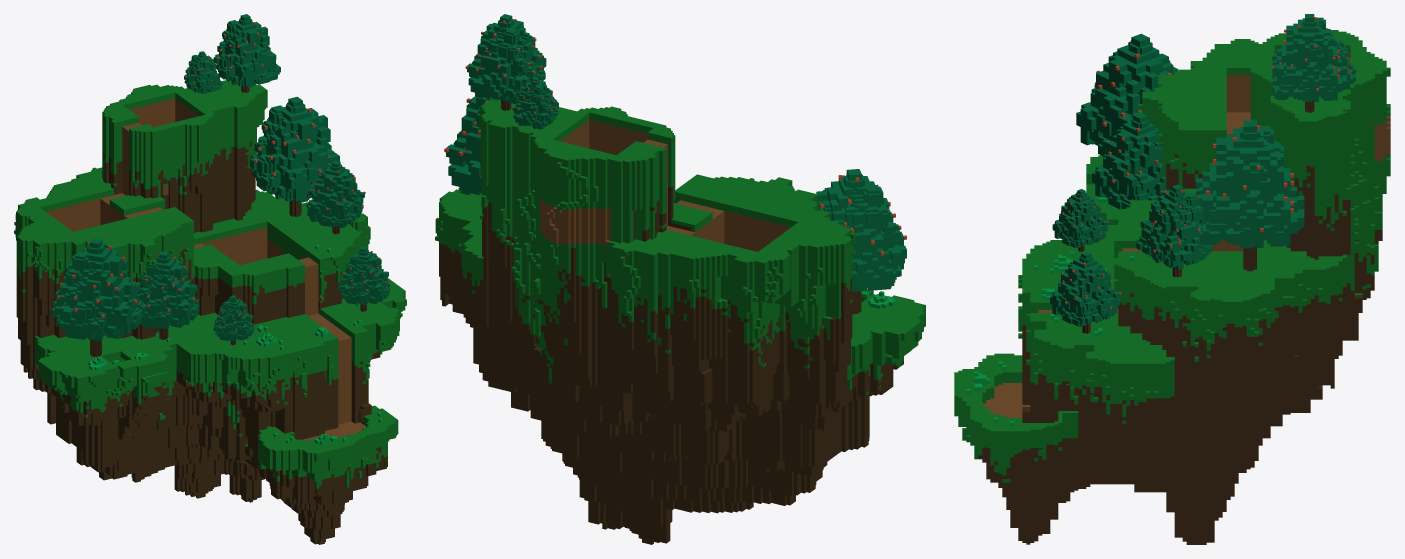
Rendered from 三层瀑布.FBX.
The picture shows the model from 3 angles, left to right: view 1: azimuth 30°, elevation 25°; view 2: azimuth 150°, elevation 25°; view 3: azimuth 270°, elevation 25°; orthographic projection. The views are drawn at different scales.
Visible parts, largest first — view 1: default, default005, default001, default006, default003, default002, default008, default007, default004; view 2: default, default005, default003, default001, default004; view 3: default, default001, default005, default003, default006, default002, default008, default007.
Boxes of the visible parts, left/top/right/bottom form: default: left=14, top=80, right=406, bottom=544; default005: left=51, top=238, right=142, bottom=356; default001: left=250, top=96, right=339, bottom=216; default006: left=138, top=251, right=199, bottom=339; default003: left=214, top=14, right=280, bottom=92; default002: left=306, top=160, right=365, bottom=234; default008: left=338, top=246, right=390, bottom=311; default007: left=213, top=295, right=254, bottom=345; default004: left=184, top=51, right=222, bottom=94; default: left=435, top=99, right=925, bottom=544; default005: left=816, top=169, right=906, bottom=314; default003: left=465, top=14, right=546, bottom=110; default001: left=444, top=92, right=500, bottom=195; default004: left=512, top=77, right=558, bottom=129; default: left=954, top=30, right=1390, bottom=544; default001: left=1196, top=120, right=1304, bottom=271; default005: left=1076, top=33, right=1178, bottom=155; default003: left=1272, top=14, right=1346, bottom=112; default006: left=1092, top=113, right=1168, bottom=209; default002: left=1136, top=184, right=1212, bottom=277; default008: left=1050, top=251, right=1121, bottom=333; default007: left=1052, top=189, right=1108, bottom=251.
Size of the model in its own units: 126 by 152 by 109.
